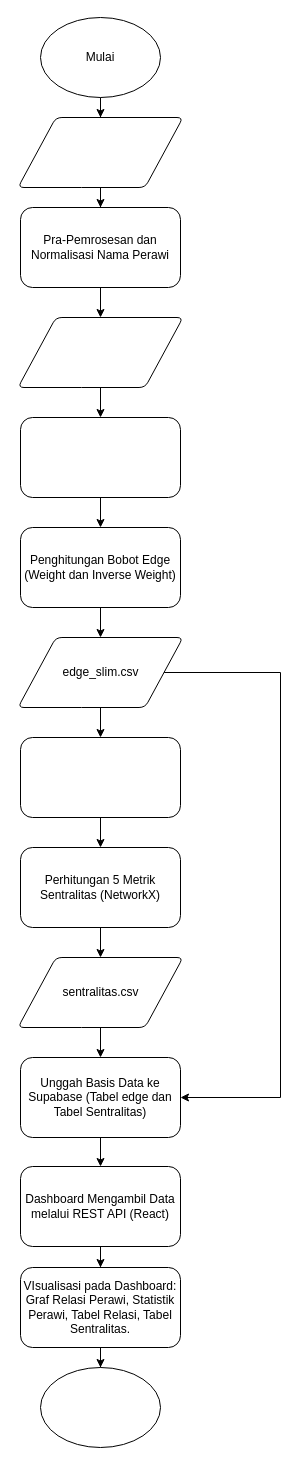
Some shapes in this 306 by 1465 pixel diagram are drawn without their labels. The shapes that lost their labels are listed below. From the top down, each one's box as (x1, y1, x2, y2) in pixels, then its label:
(17, 116, 183, 188): sanadset.csv
(17, 316, 183, 388): sanadset_cleaned.csv
(20, 416, 180, 498): Pemodelan Tripel Sanad (Guru , Murid)
(20, 736, 180, 818): Pembangunan Graf Berarah Berbobot (NetwokX Digraph)
(40, 1366, 160, 1448): Selesai
